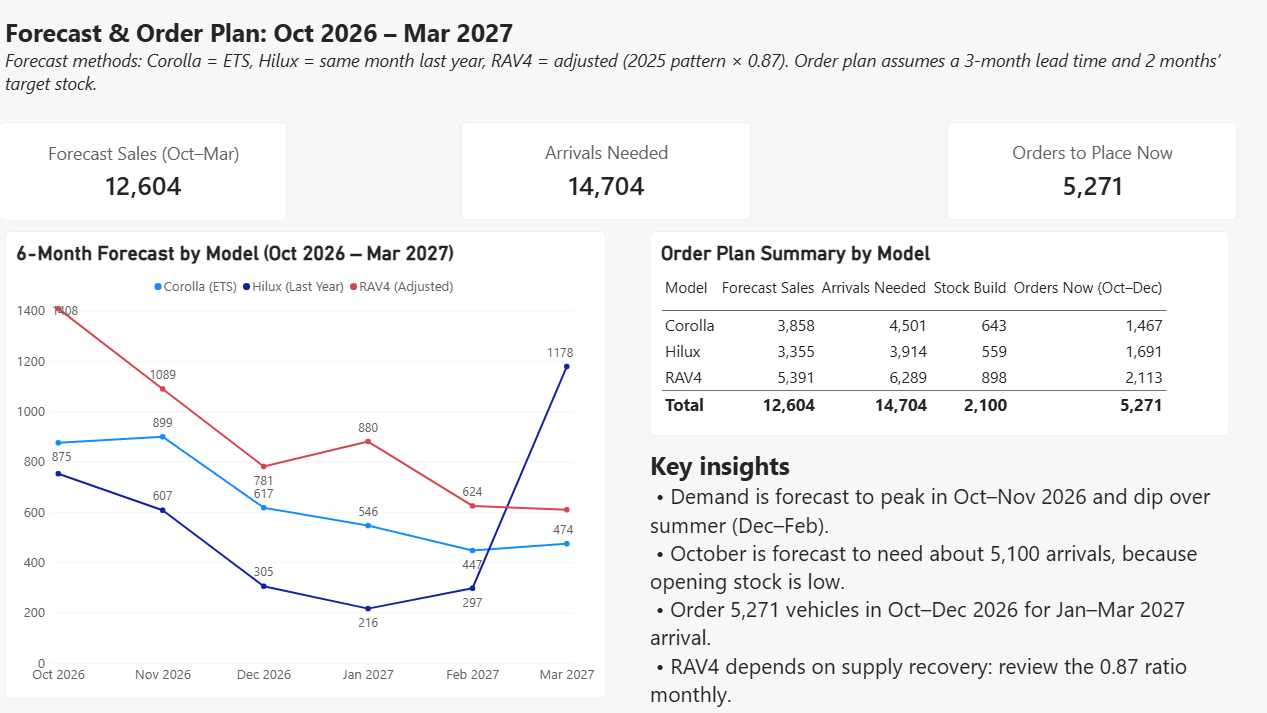

Layout of this report page (visuals, bound fields, positions):
{"tool":"powerbi","page":{"name":"Forecast & Order Plan","canvas":[1920,1080],"ordinal":2},"visuals":[{"type":"textbox","box":[9.5,26,1909.8,122.9],"z":0},{"type":"cardVisual","fields":{"Data":["tbl_OrderSummary.Forecast Sales Label"]},"box":[0,186.7,436.1,149.9],"z":1000},{"type":"cardVisual","fields":{"Data":["tbl_OrderSummary.Arrivals Needed Label"]},"box":[699.6,186.7,439.6,148.9],"z":2000},{"type":"cardVisual","fields":{"Data":["tbl_OrderSummary.Orders Now Label"]},"box":[1434.7,186.7,439.6,148.9],"z":2001},{"type":"lineChart","title":"6-Month Forecast by Model (Oct 2026 – Mar 2027)","fields":{"Category":["tbl_Forecast.Date"],"Y":["Sum(tbl_Forecast.Corolla (ETS))","Sum(tbl_Forecast.Hilux (Last Year))","Sum(tbl_Forecast.RAV4 (Adjusted))"]},"box":[9.5,352.2,910,706.7],"z":2002},{"type":"tableEx","title":"Order Plan Summary by Model","fields":{"Values":["tbl_OrderSummary.Model","Sum(tbl_OrderSummary.Forecast Sales)","Sum(tbl_OrderSummary.Arrivals Needed)","Sum(tbl_OrderSummary.Stock Build)","Sum(tbl_OrderSummary.Orders to Place Now (Oct–Dec 2026))"]},"box":[985.6,352.2,876.9,309.6],"z":2003},{"type":"textbox","box":[985.6,680.7,907.6,399.4],"z":2004}]}

Visuals, with their boxes in screenshot pixels (x1, y1, x2, y2), scaled from the page's 1920x1080 canvas onto the 1267x713 screenshot:
textbox: 6 17 1266 98
cardVisual - tbl_OrderSummary.Forecast Sales Label: 0 123 288 222
cardVisual - tbl_OrderSummary.Arrivals Needed Label: 462 123 752 222
cardVisual - tbl_OrderSummary.Orders Now Label: 947 123 1237 222
"6-Month Forecast by Model (Oct 2026 – Mar 2027)" lineChart: 6 233 607 699
"Order Plan Summary by Model" tableEx: 650 233 1229 437
textbox: 650 449 1249 712
